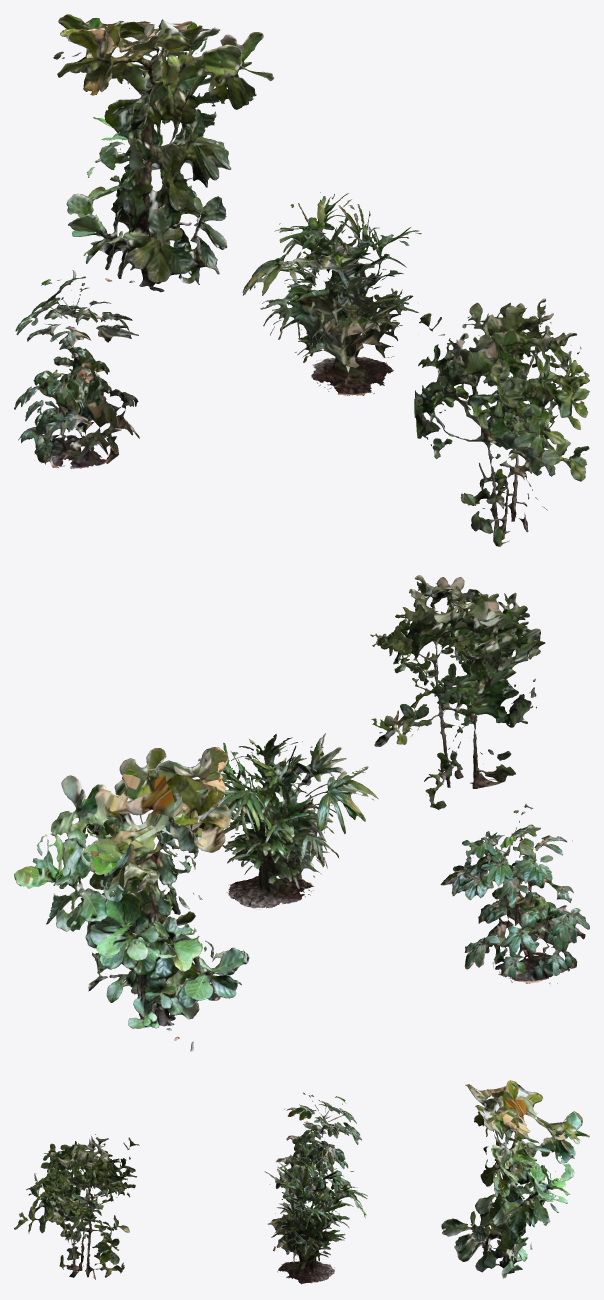
The model's file is plants.gltf.
The picture shows the model from 3 angles, top to bottom: view 1: azimuth 30°, elevation 25°; view 2: azimuth 150°, elevation 25°; view 3: azimuth 270°, elevation 25°; orthographic projection. The views are drawn at different scales.
Visible parts, largest first — view 1: plant2, plant4, plan1, plant3; view 2: plant2, plant4, plan1, plant3; view 3: plant2, plant4, plan1, plant3.
Part boxes in pixels (left/top/right/bottom): plant2: left=53, top=14, right=273, bottom=292; plant4: left=414, top=298, right=589, bottom=546; plan1: left=242, top=192, right=421, bottom=395; plant3: left=14, top=276, right=139, bottom=468; plant2: left=14, top=747, right=249, bottom=1051; plant4: left=370, top=575, right=545, bottom=809; plan1: left=195, top=733, right=378, bottom=909; plant3: left=440, top=803, right=589, bottom=985; plant2: left=441, top=1080, right=589, bottom=1278; plant4: left=14, top=1134, right=139, bottom=1279; plan1: left=264, top=1151, right=367, bottom=1284; plant3: left=275, top=1092, right=361, bottom=1203.
Bounding box in the file's own units: 3.01 × 1.99 × 5.94.
Materials: 4 (4 with a texture image).
